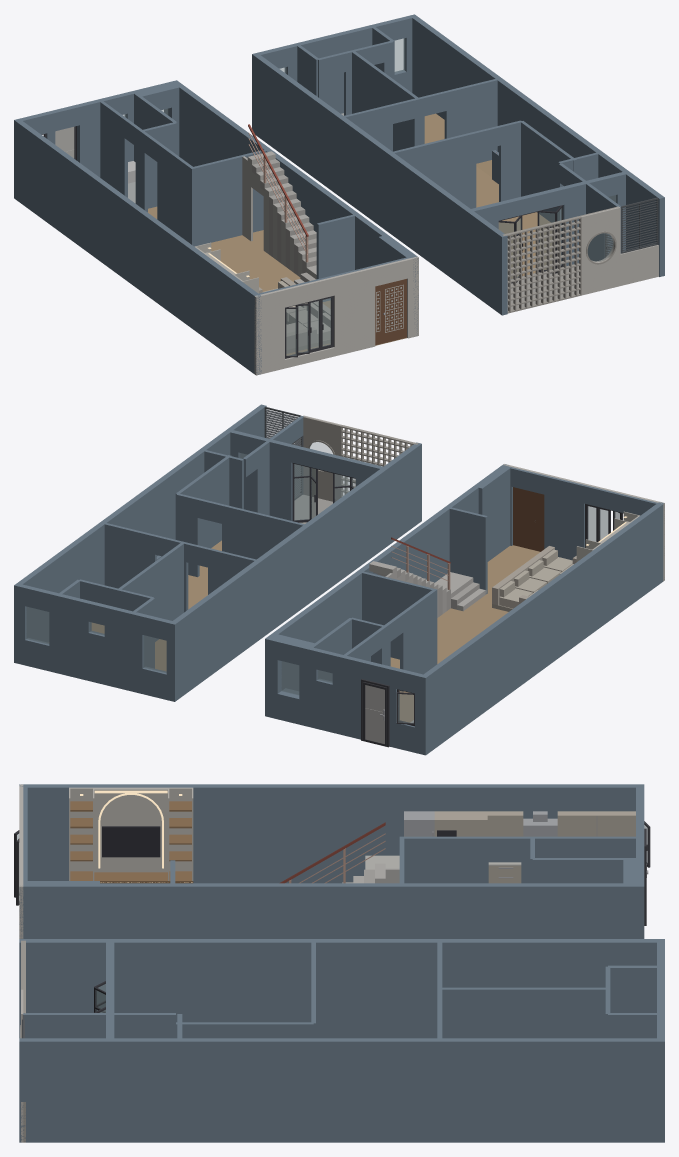
File: house_web_blue.glb
3 renders of one model, top to bottom at view 1: azimuth 30°, elevation 25°; view 2: azimuth 150°, elevation 25°; view 3: azimuth 270°, elevation 25°, orthographic. The views are drawn at different scales.
Visible parts, largest first — view 1: PartyL.001, PartyL, PartyR.001, PartyR, Dining_Kitchen_202, MB_Back, Front.003, Leisure_Back.002, B1_B2, Kitchen_Bedroom, MB_Strip.001, Front (+36 smaller); view 2: PartyL.001, PartyL, PartyR.001, PartyR, Back.006, Back.005, Front.003_inner, MB_Back, Dining_Kitchen_202, Stair_End_Wall, B1_B2, Leisure_Back.002 (+43 smaller); view 3: PartyR.001, PartyL.001, PartyR, PartyL, B1_B2, TV_Center_panel, Kitchen_Bedroom, Bedroom_NotchSide, MB_Strip.001, Toilet_Side, Kit_wall_B, TV_Screen (+17 smaller).
Boxes of the visible parts, x1,y1,x2,y2 form: PartyL.001: (252, 53, 507, 315); PartyL: (14, 119, 261, 374); PartyR.001: (412, 16, 664, 276); PartyR: (176, 80, 418, 335); Dining_Kitchen_202: (190, 149, 266, 246); MB_Back: (390, 132, 476, 208); Front.003: (334, 267, 375, 356); Leisure_Back.002: (444, 78, 499, 163); B1_B2: (351, 51, 418, 151); Kitchen_Bedroom: (157, 143, 192, 242); MB_Strip.001: (521, 121, 576, 222); Front: (254, 289, 284, 375); PartyL.001: (169, 442, 421, 700); PartyL: (420, 502, 664, 753); PartyR.001: (14, 404, 266, 663); PartyR: (265, 464, 508, 716); Back.006: (49, 592, 91, 680); Back.005: (104, 605, 145, 693); Front.003_inner: (544, 475, 584, 560); MB_Back: (222, 504, 306, 559); Dining_Kitchen_202: (360, 571, 437, 664); Stair_End_Wall: (449, 507, 487, 593); B1_B2: (118, 542, 184, 641); Leisure_Back.002: (102, 522, 156, 588); PartyR.001: (19, 1038, 664, 1142); PartyL.001: (19, 939, 657, 1038); PartyR: (19, 883, 644, 938); PartyL: (19, 784, 641, 883); B1_B2: (440, 987, 607, 1038); TV_Center_panel: (94, 787, 167, 872); Kitchen_Bedroom: (402, 836, 488, 883); Bedroom_NotchSide: (532, 858, 635, 883); MB_Strip.001: (176, 1022, 313, 1038); Toilet_Side: (608, 965, 660, 1012); Kit_wall_B: (557, 811, 635, 836); TV_Screen: (102, 826, 160, 857).
Size of the model in its own units: 14.96 by 4.03 by 15.99.
